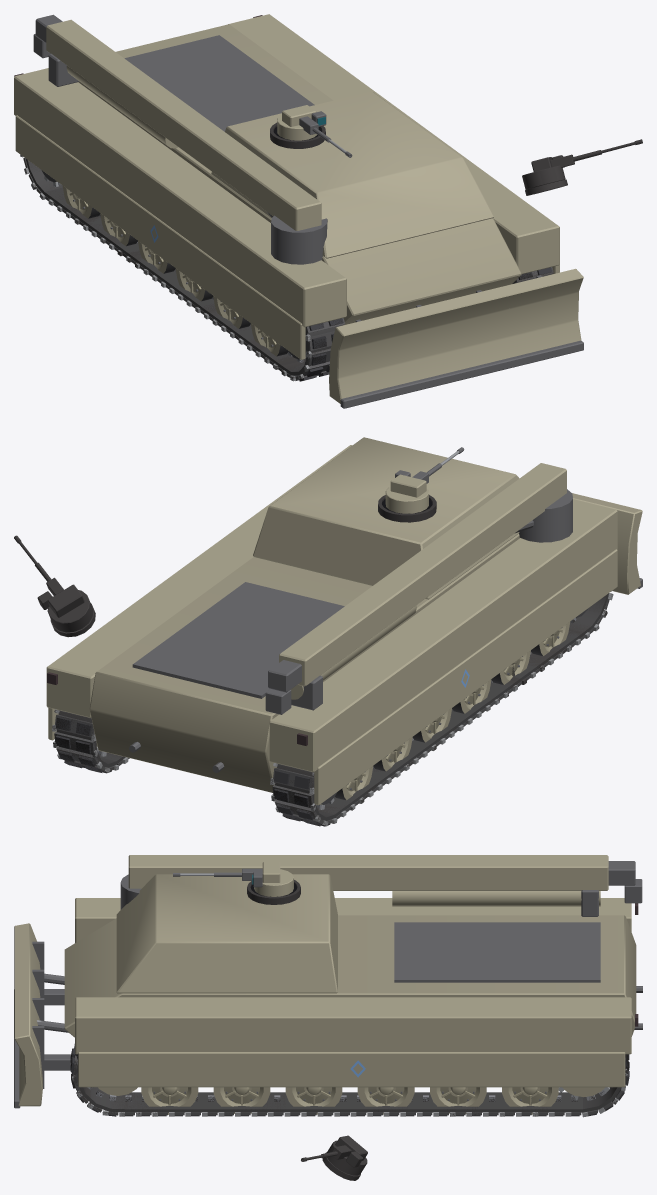
File: recoveryVehicle__wzt_3.glb
3 renders of one model, top to bottom at view 1: azimuth 30°, elevation 25°; view 2: azimuth 150°, elevation 25°; view 3: azimuth 270°, elevation 25°, orthographic. The views are drawn at different scales.
Visible parts, largest first — view 1: Hull_Mesh, Track_L_Mesh, Wreck, Turret_Mesh; view 2: Hull_Mesh, Wreck, Track_L_Mesh, Track_R_Mesh, Turret_Mesh; view 3: Hull_Mesh, Track_R_Mesh, Wreck, Turret_Mesh, Wheel_R2_Mesh, Wheel_R3_Mesh, Wheel_R4_Mesh, Wheel_R5_Mesh, Wheel_R0_Mesh, Wheel_R1_Mesh.
Boxes of the visible parts, <box> form: Hull_Mesh: <box>14,14,583,408</box>; Track_L_Mesh: <box>20,155,344,381</box>; Wreck: <box>20,122,642,380</box>; Turret_Mesh: <box>277,105,326,140</box>; Hull_Mesh: <box>46,437,642,805</box>; Wreck: <box>14,495,612,826</box>; Track_L_Mesh: <box>270,591,613,826</box>; Track_R_Mesh: <box>52,709,129,773</box>; Turret_Mesh: <box>385,470,428,513</box>; Hull_Mesh: <box>14,855,642,1108</box>; Track_R_Mesh: <box>70,1045,629,1117</box>; Wreck: <box>70,880,629,1180</box>; Turret_Mesh: <box>252,862,293,896</box>; Wheel_R2_Mesh: <box>357,1087,414,1114</box>; Wheel_R3_Mesh: <box>285,1087,342,1114</box>; Wheel_R4_Mesh: <box>213,1087,270,1113</box>; Wheel_R5_Mesh: <box>141,1087,198,1114</box>; Wheel_R0_Mesh: <box>502,1087,558,1114</box>; Wheel_R1_Mesh: <box>430,1087,486,1113</box>.
Size of what is drawn, in the model's own units: 6.35 by 2.46 by 7.85.
